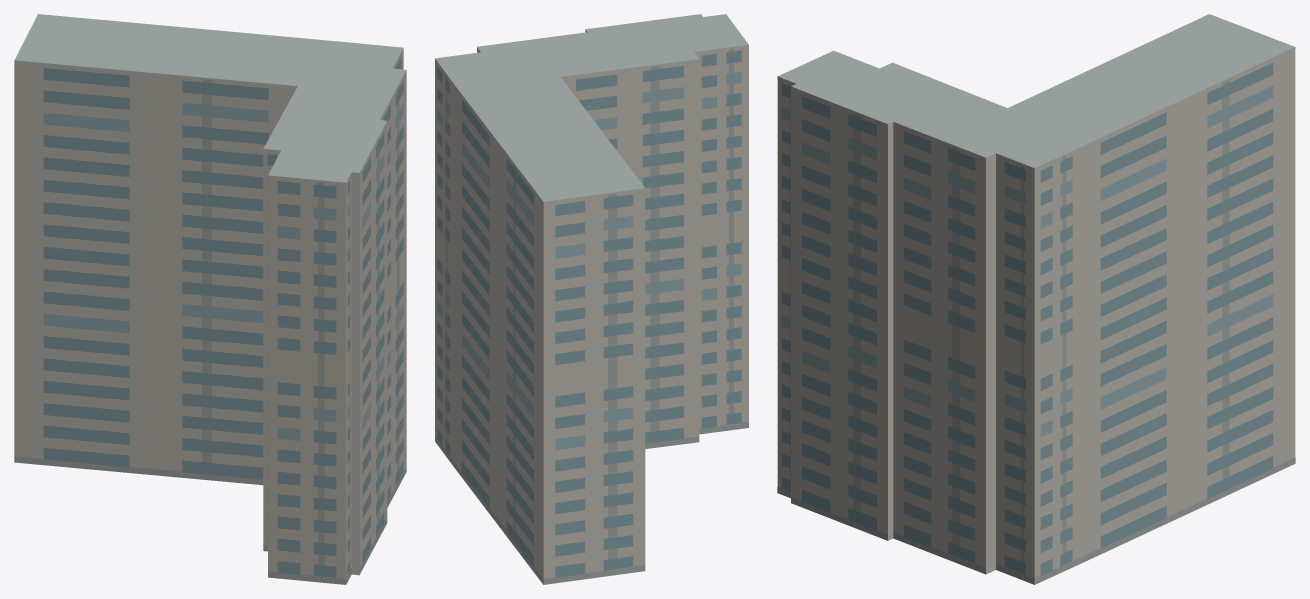
The model's file is residential-31f3f07f-d9a4-47c5-8ff6-054f816a3b29.glb.
3 views of the same model, side by side, from view 1: azimuth 30°, elevation 25°; view 2: azimuth 150°, elevation 25°; view 3: azimuth 270°, elevation 25° (orthographic). The views are drawn at different scales.
Visible parts, largest first — view 1: residential-31f3f07f-d9a4-47c5-8ff6-054f816a3b29.tmp; view 2: residential-31f3f07f-d9a4-47c5-8ff6-054f816a3b29.tmp; view 3: residential-31f3f07f-d9a4-47c5-8ff6-054f816a3b29.tmp.
Boxes of the visible parts, left/top/right/bottom form: residential-31f3f07f-d9a4-47c5-8ff6-054f816a3b29.tmp: left=14, top=14, right=406, bottom=584; residential-31f3f07f-d9a4-47c5-8ff6-054f816a3b29.tmp: left=435, top=14, right=748, bottom=584; residential-31f3f07f-d9a4-47c5-8ff6-054f816a3b29.tmp: left=777, top=14, right=1295, bottom=584.
Size of the model in its own units: 41.27 by 52 by 58.59.
